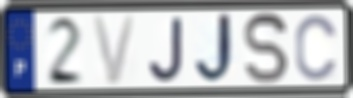2: (43, 16, 86, 86)
C: (293, 12, 340, 83)
J: (193, 11, 239, 87), (146, 15, 185, 85)
S: (242, 10, 291, 87)
V: (90, 13, 139, 87)
